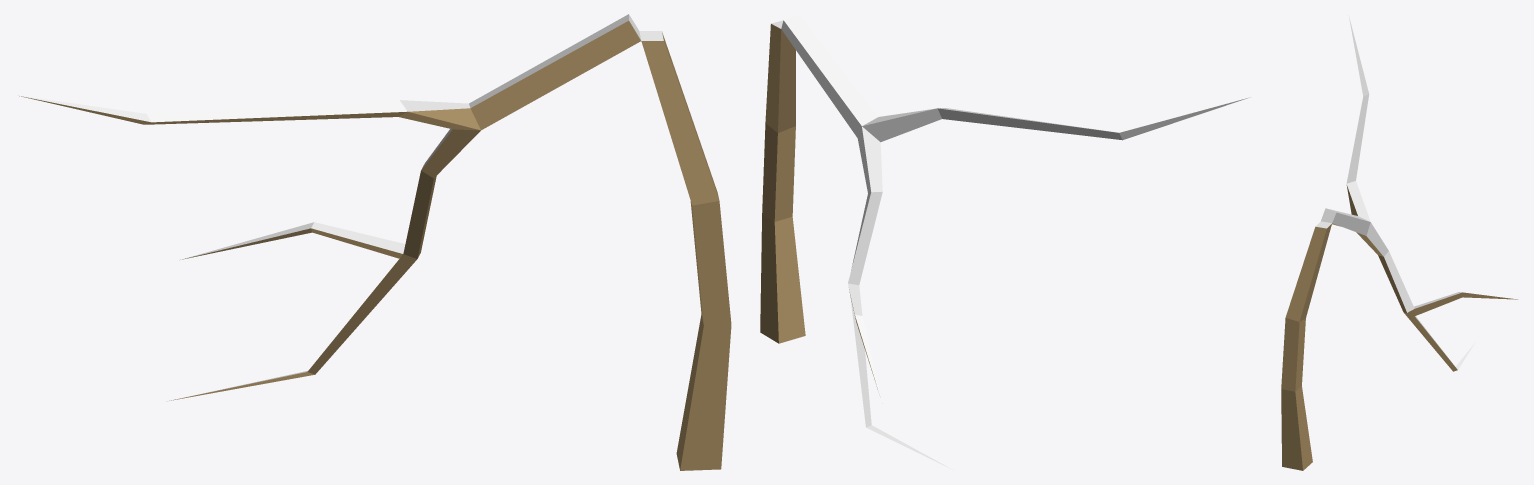
Rendered from Random_Tree_NoLeaves_crk_s_Snow_02.fbx.
3 renders of one model, left to right at view 1: azimuth 30°, elevation 25°; view 2: azimuth 150°, elevation 25°; view 3: azimuth 270°, elevation 25°, orthographic. The views are drawn at different scales.
Parts seen in each view (by area): view 1: Random_Tree_NoLeaves_crk_s_Snow_02; view 2: Random_Tree_NoLeaves_crk_s_Snow_02; view 3: Random_Tree_NoLeaves_crk_s_Snow_02.
Part boxes in pixels (x1,y1,x2,y2): Random_Tree_NoLeaves_crk_s_Snow_02: [17, 14, 731, 470]; Random_Tree_NoLeaves_crk_s_Snow_02: [760, 14, 1249, 469]; Random_Tree_NoLeaves_crk_s_Snow_02: [1281, 15, 1517, 470].
Bounding box in the file's own units: 174 × 122 × 95.95.
